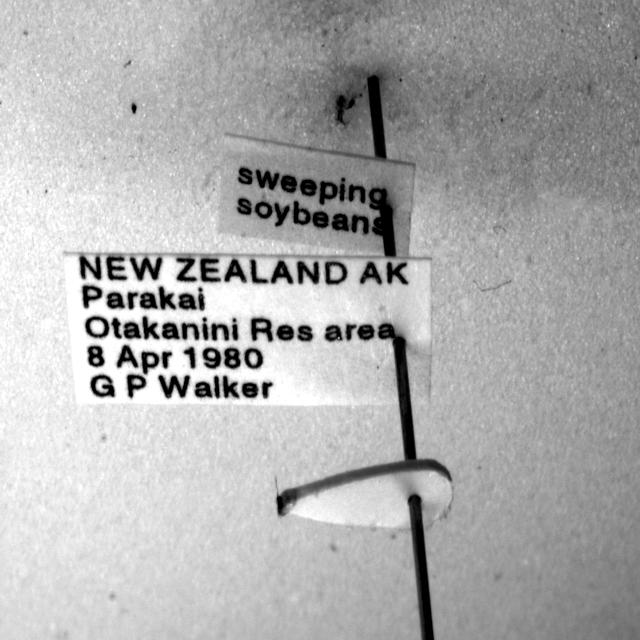typed_label: (64, 253, 431, 405), (220, 135, 415, 255)
